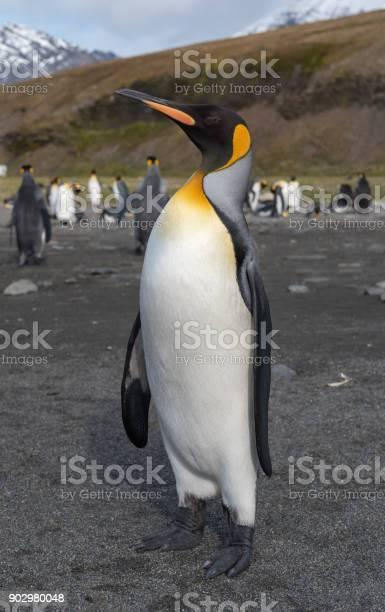king: (78, 51, 314, 578)
